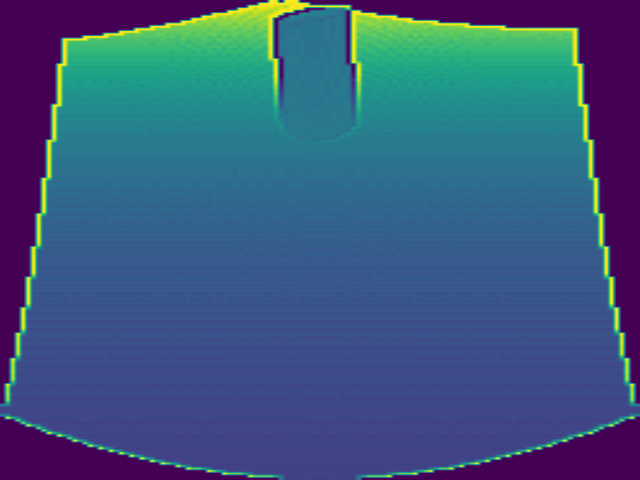cylinder: (270, 5, 362, 142)
